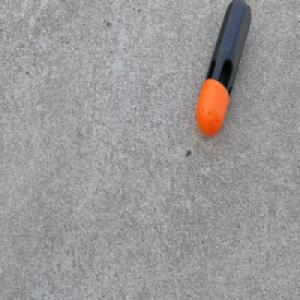PlasticPart: (195, 0, 252, 138)
